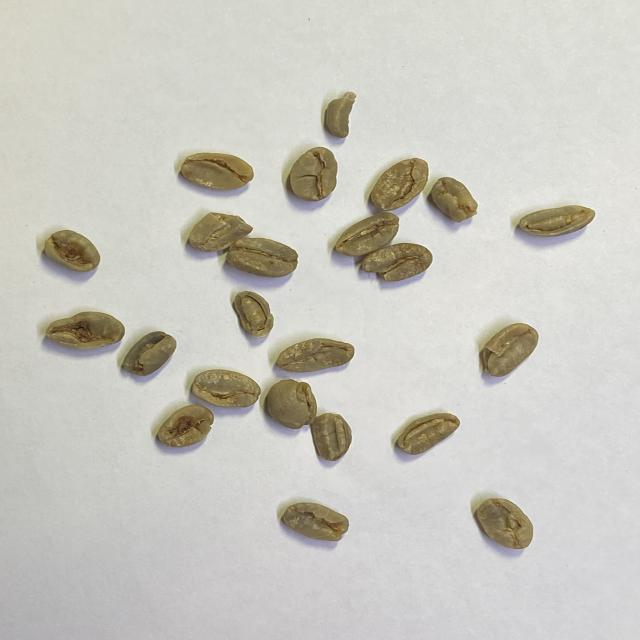bad: (479, 322, 538, 378), (370, 157, 430, 212), (45, 310, 126, 350), (475, 497, 535, 550), (227, 236, 299, 278), (334, 212, 400, 257), (361, 242, 433, 283), (190, 368, 262, 409), (180, 152, 255, 191), (275, 337, 355, 373), (396, 412, 461, 456), (288, 146, 339, 202), (187, 211, 254, 253), (280, 502, 350, 542), (516, 204, 596, 238), (266, 378, 318, 430), (156, 403, 215, 448), (44, 229, 102, 273), (122, 330, 177, 376), (431, 176, 479, 223), (232, 290, 276, 340), (310, 412, 353, 462), (324, 90, 357, 138)
